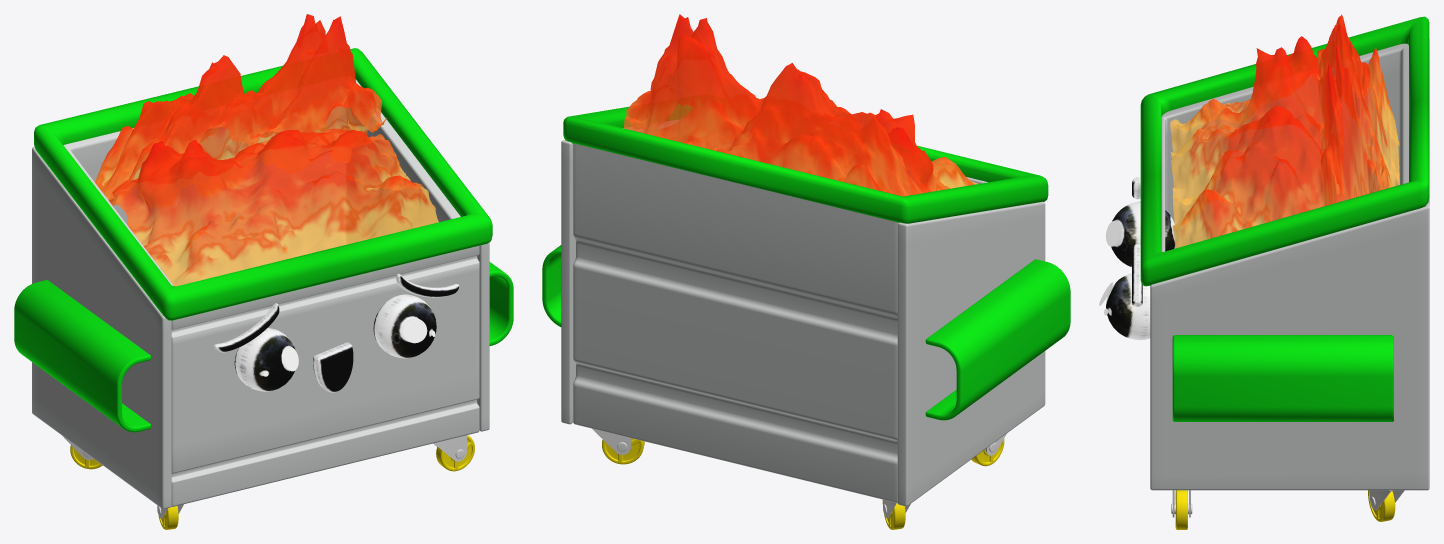
The picture shows the model from 3 angles, left to right: view 1: azimuth 30°, elevation 25°; view 2: azimuth 150°, elevation 25°; view 3: azimuth 270°, elevation 25°; orthographic projection. The views are drawn at different scales.
Visible parts, largest first — view 1: Dumpster Geometry, Small Fire.003, Fire Small Back.003, Wheel Holder; view 2: Dumpster Geometry, Fire Small Back.003, Small Fire.003, Wheel Holder; view 3: Dumpster Geometry, Small Fire.003, Fire Small Back.003, Wheel Holder.
Part boxes in pixels (box(x1,y1,x2,y2)): Dumpster Geometry: box(14, 48, 513, 529); Small Fire.003: box(109, 128, 438, 286); Fire Small Back.003: box(94, 14, 387, 206); Wheel Holder: box(63, 435, 466, 518); Dumpster Geometry: box(542, 104, 1070, 529); Fire Small Back.003: box(624, 14, 924, 196); Small Fire.003: box(648, 109, 978, 195); Wheel Holder: box(592, 428, 1006, 517); Dumpster Geometry: box(1099, 16, 1429, 529); Small Fire.003: box(1170, 36, 1344, 248); Fire Small Back.003: box(1317, 14, 1399, 206); Wheel Holder: box(1171, 490, 1404, 517).
Size of the model in its own units: 2.3 by 2.33 by 1.56.
Materials: 8 (4 with a texture image).
